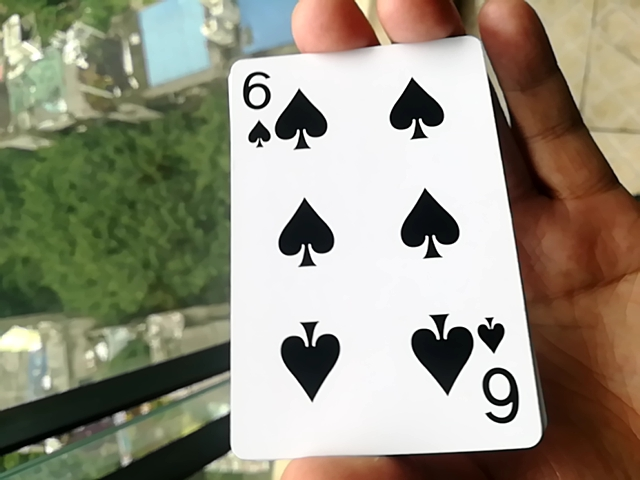ht 6: (220, 48, 554, 469)
